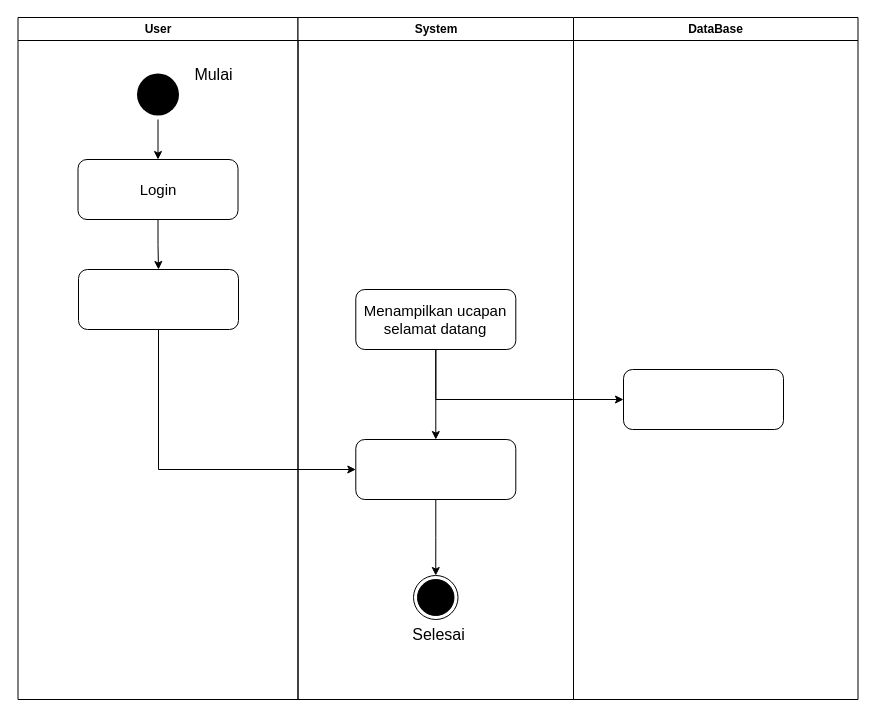
Image size: 875x717. Some labels were removed from this diagram. Here are the shapes that lost their labels. From the top down, the centre of each, then its label:
At (158,299): "Buka halaman Beranda".
At (703,399): "Ambil data laporan".
At (435,469): "Tampilkan statistik laporan".
